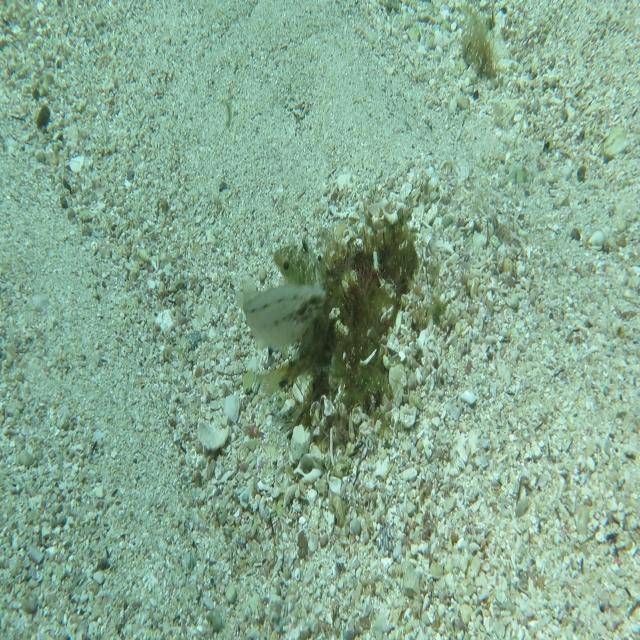DAN_CIRC: (254, 233, 334, 398)
core_nest: (342, 220, 396, 276)
female: (235, 279, 326, 357)
nest: (267, 174, 427, 440)
